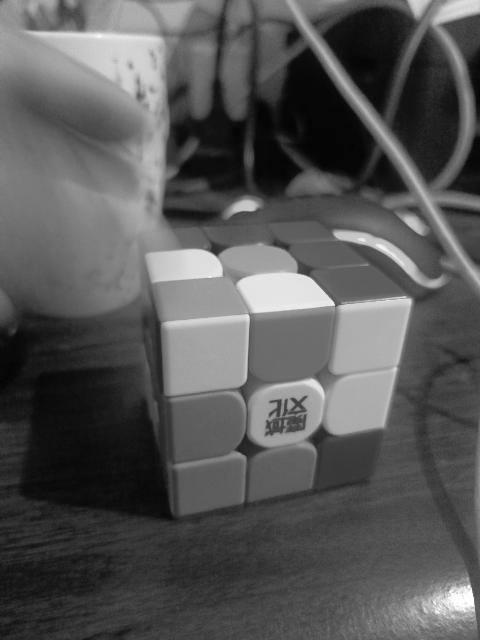rubik: (143, 217, 414, 517)
